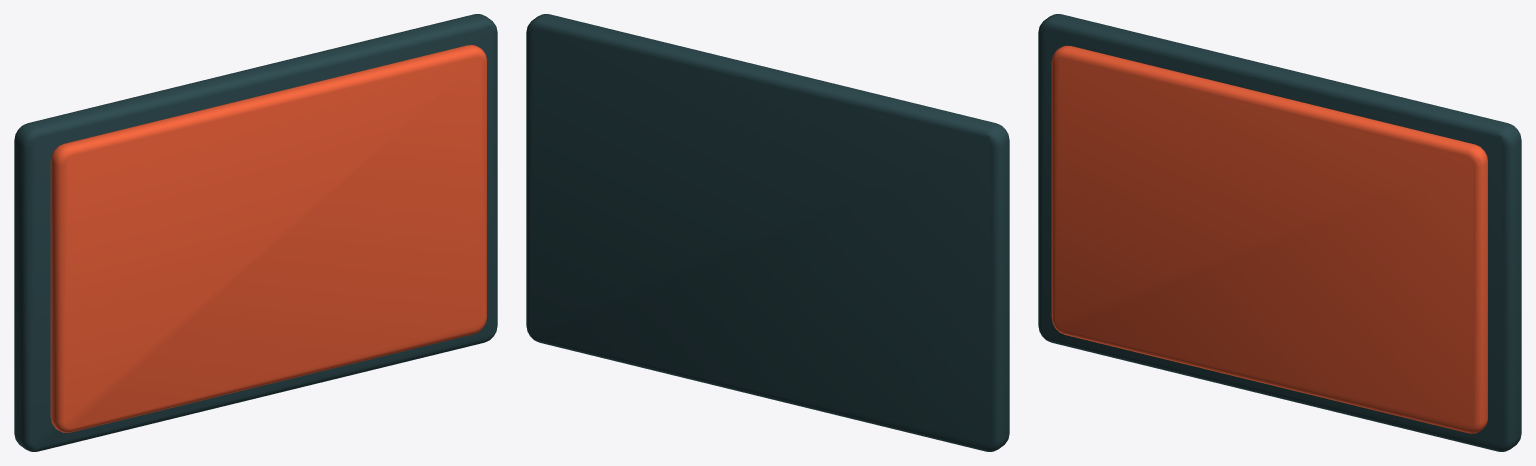
3 views of the same model, side by side, from view 1: azimuth 30°, elevation 25°; view 2: azimuth 150°, elevation 25°; view 3: azimuth 330°, elevation 25° (orthographic).
Parts seen in each view (by area): view 1: Cube.001, Cube; view 2: Cube; view 3: Cube.001, Cube.
Boxes of the visible parts, bbox=[...] form: Cube.001: bbox=[50, 45, 486, 432]; Cube: bbox=[14, 14, 497, 451]; Cube: bbox=[526, 14, 1009, 451]; Cube.001: bbox=[1051, 45, 1487, 433]; Cube: bbox=[1038, 14, 1521, 451].
Bounding box in the file's own units: 1 × 0.65 × 0.0851.
